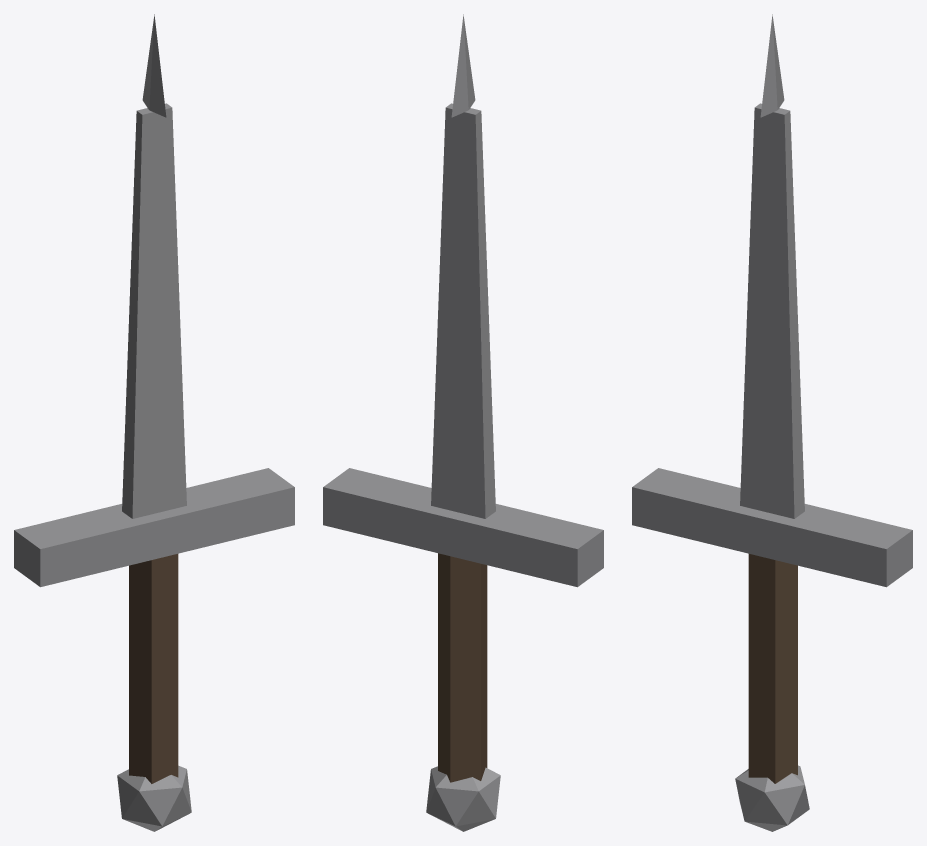
Rendered from w_dagger.glb.
3 renders of one model, left to right at view 1: azimuth 30°, elevation 25°; view 2: azimuth 150°, elevation 25°; view 3: azimuth 330°, elevation 25°, orthographic.
Parts seen in each view (by area): view 1: w_dagger; view 2: w_dagger; view 3: w_dagger.
Part boxes in pixels (x1=…): w_dagger: x1=14, y1=14, x2=294, y2=831; w_dagger: x1=323, y1=14, x2=603, y2=831; w_dagger: x1=632, y1=14, x2=912, y2=831.
Size of the model in its own units: 0.28 by 0.86 by 0.0681.
